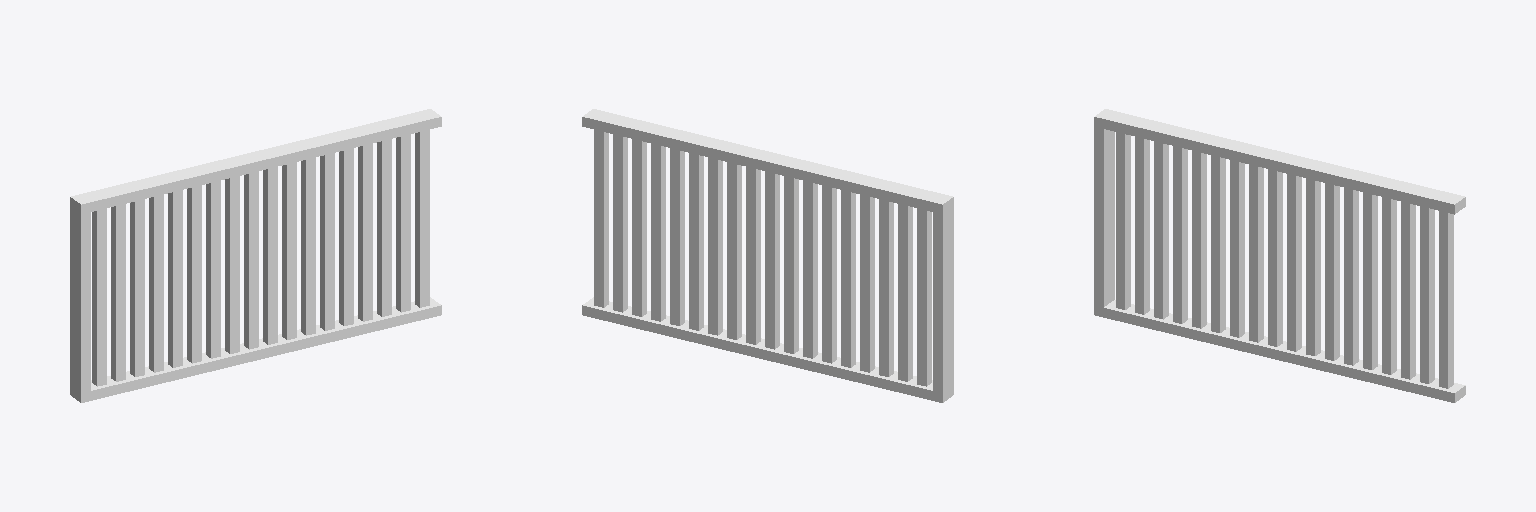
Rendered from Fence2.obj.
The picture shows the model from 3 angles: view 1: azimuth 30°, elevation 25°; view 2: azimuth 150°, elevation 25°; view 3: azimuth 330°, elevation 25°; orthographic projection.
Visible parts, largest first — view 1: object 1; view 2: object 1; view 3: object 1.
Part boxes in pixels (x1,y1,x2,y2): object 1: (70, 109, 441, 402); object 1: (582, 109, 953, 402); object 1: (1094, 109, 1465, 402).
Size of the model in its own units: 7.6 by 4 by 0.4.